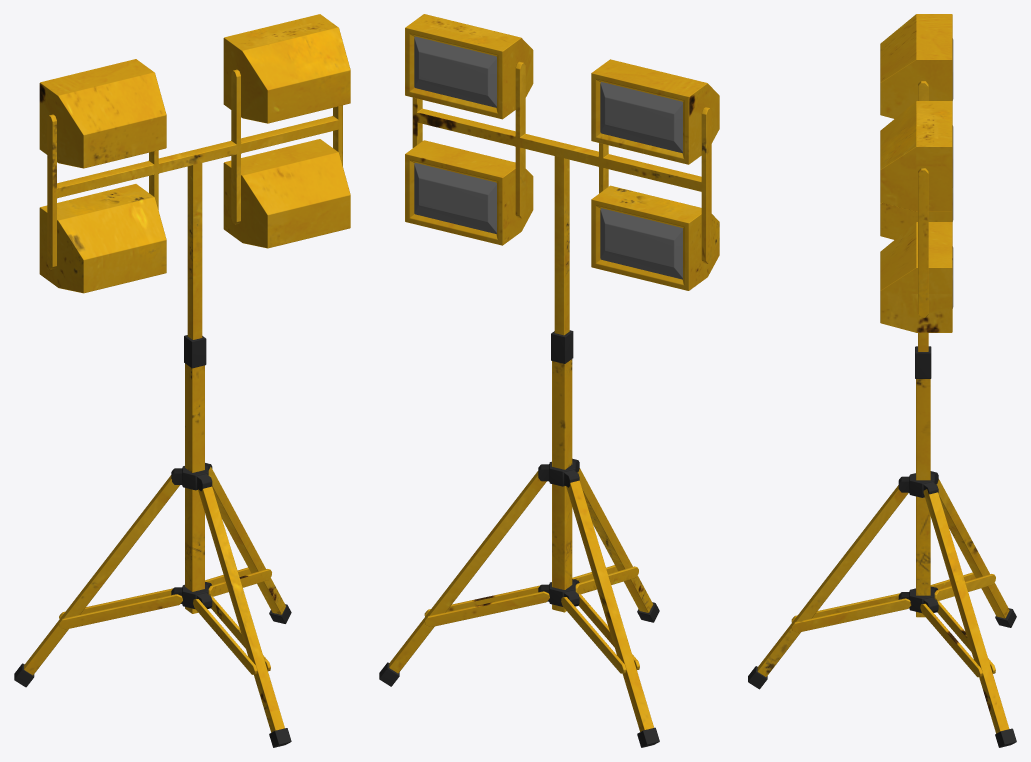
Rendered from Construction_Floor_TallTripod_4Heads.fbx.
3 views of the same model, side by side, from view 1: azimuth 30°, elevation 25°; view 2: azimuth 150°, elevation 25°; view 3: azimuth 270°, elevation 25° (orthographic). The views are drawn at different scales.
Parts seen in each view (by area): view 1: Construction_Floor_TallTripod_4Heads_LOD0; view 2: Construction_Floor_TallTripod_4Heads_LOD0; view 3: Construction_Floor_TallTripod_4Heads_LOD0.
Part boxes in pixels (box(x1,y1,x2,y2)): Construction_Floor_TallTripod_4Heads_LOD0: box(14, 14, 350, 747); Construction_Floor_TallTripod_4Heads_LOD0: box(379, 14, 719, 747); Construction_Floor_TallTripod_4Heads_LOD0: box(748, 14, 1016, 747).
Size of what is drawn, in the model's own units: 90 by 185 by 74.38.
Materials: 4 (1 with a texture image).
